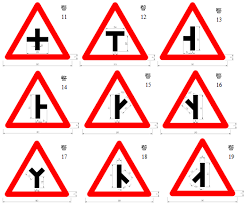Fork_road: (165, 137, 241, 197), (159, 69, 233, 130), (4, 68, 75, 131), (83, 67, 153, 130), (159, 1, 229, 64), (1, 1, 73, 61), (80, 1, 152, 61), (84, 138, 155, 198), (5, 138, 72, 199)
